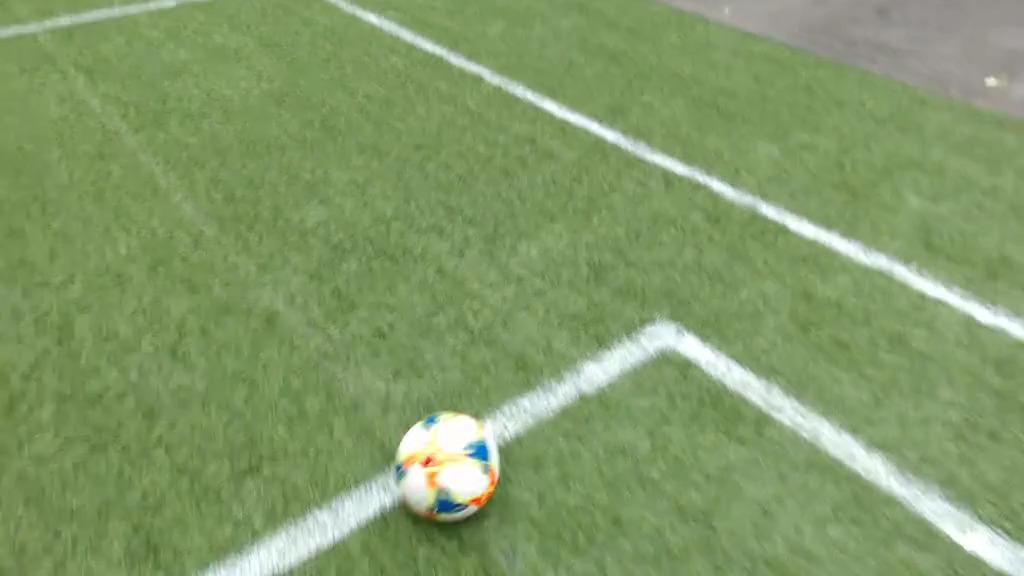ball: (375, 400, 514, 533)
